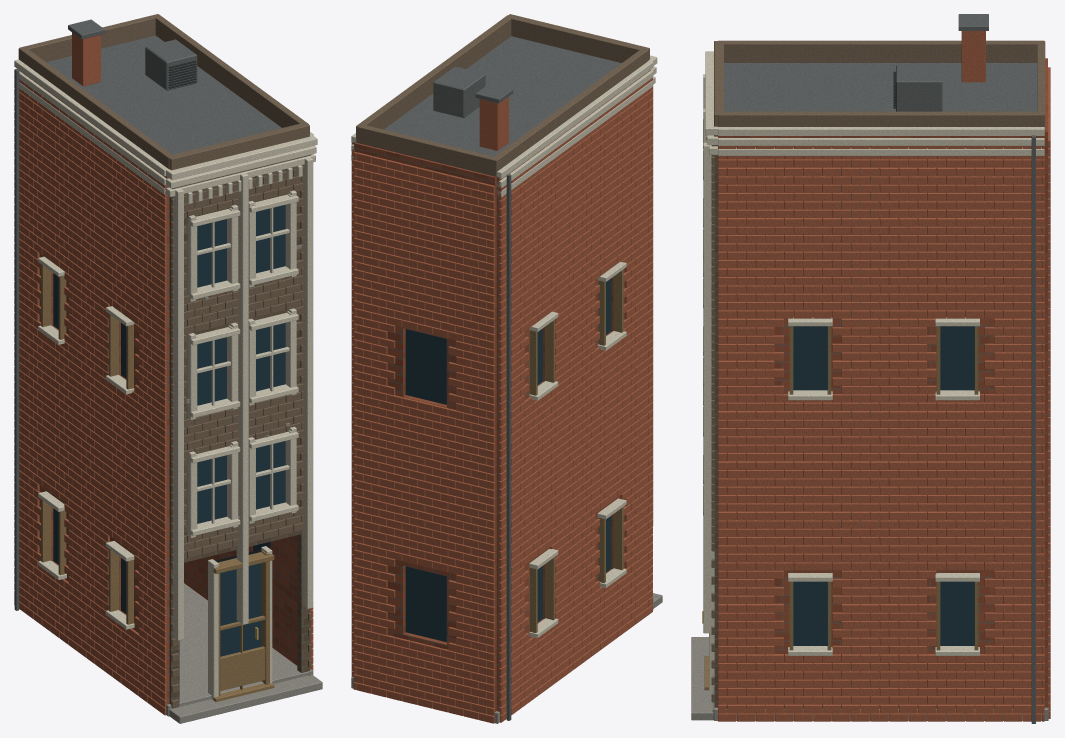
The model's file is OFFC14_lod0.glb.
3 renders of one model, left to right at view 1: azimuth 30°, elevation 25°; view 2: azimuth 150°, elevation 25°; view 3: azimuth 270°, elevation 25°, orthographic. The views are drawn at different scales.
Parts seen in each view (by area): view 1: OFFC14_LOD0; view 2: OFFC14_LOD0; view 3: OFFC14_LOD0.
Boxes of the visible parts, x1=… form: OFFC14_LOD0: x1=14, y1=14, x2=322, y2=723; OFFC14_LOD0: x1=351, y1=14, x2=662, y2=723; OFFC14_LOD0: x1=691, y1=14, x2=1050, y2=723.
Size of the model in its own units: 3.71 by 13.05 by 6.6.
16 materials, 13 textured.
